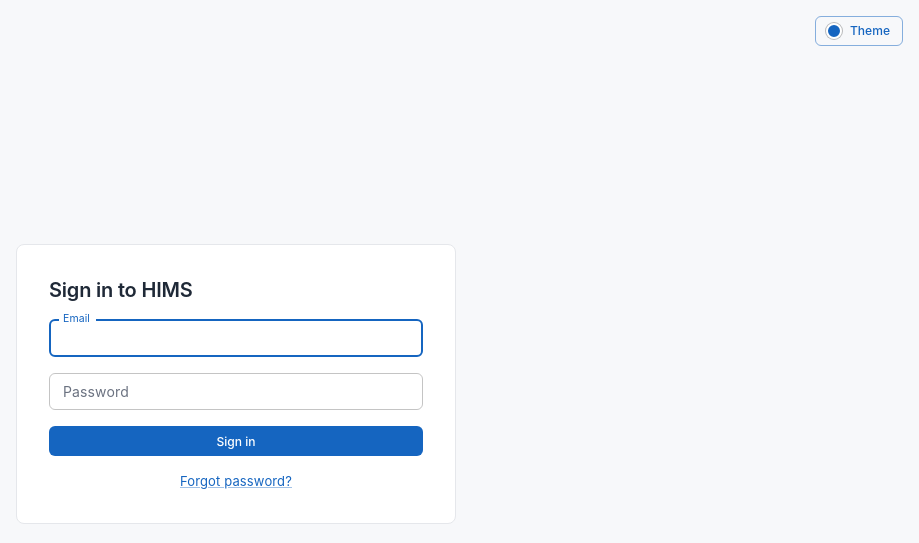
Scenario: sign-in with a passkey › does not offer it in a browser without passkeys
In the field labelled "Email": coordinates (236, 338) top-left (49, 320), bottom-right (423, 357), type "admin@synthetic.test"
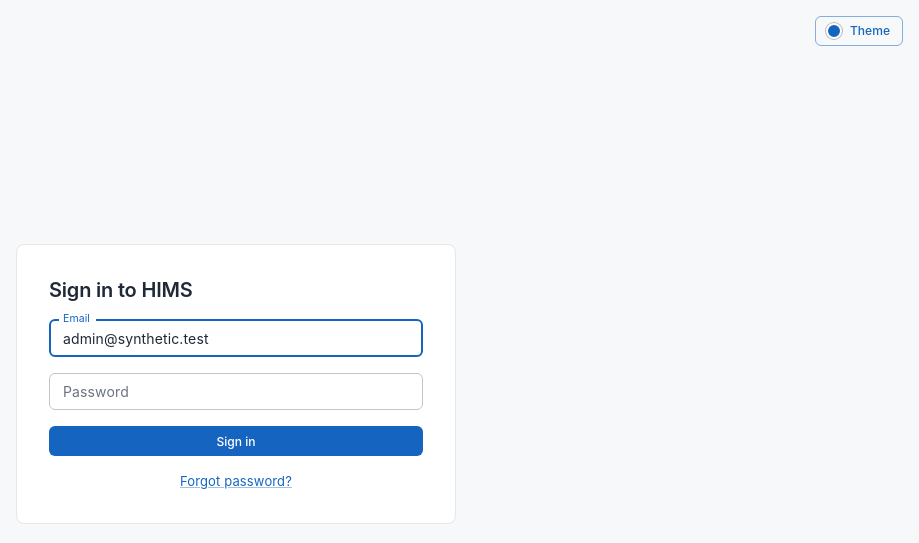
In the password field labelled "Password": coordinates (236, 392) top-left (49, 373), bottom-right (423, 410), type "secret-password"
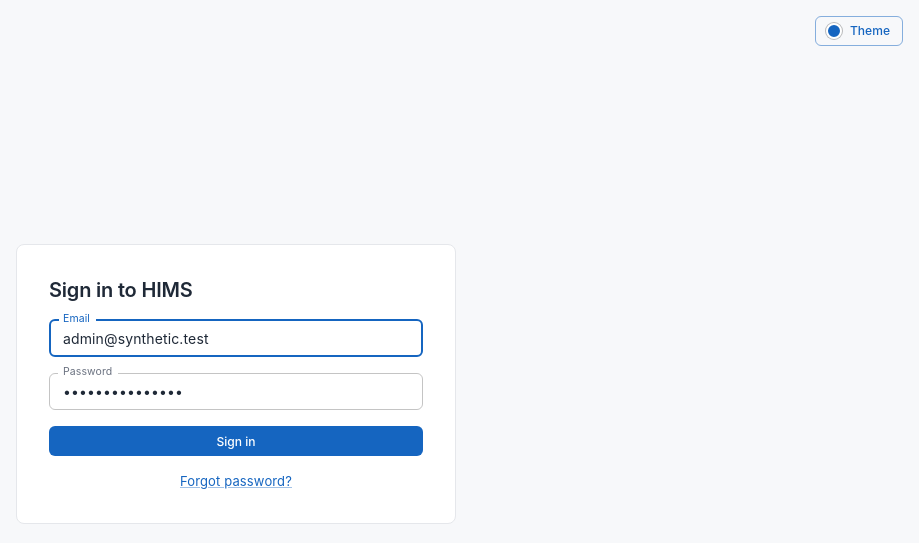
Click the button "Sign in": coordinates (236, 441) top-left (49, 426), bottom-right (423, 456)
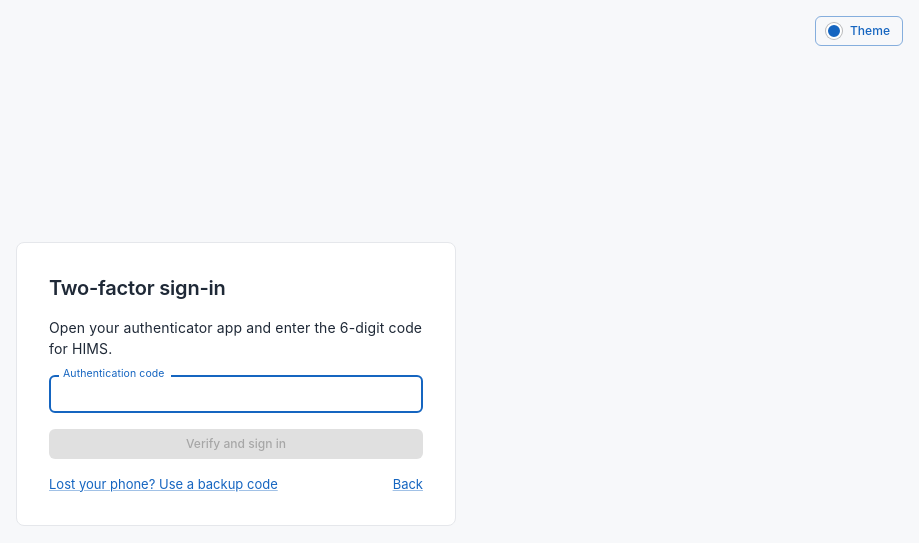
expect the heading "Two-factor sign-in" is shown: met, box top-left (49, 276), bottom-right (226, 300)
